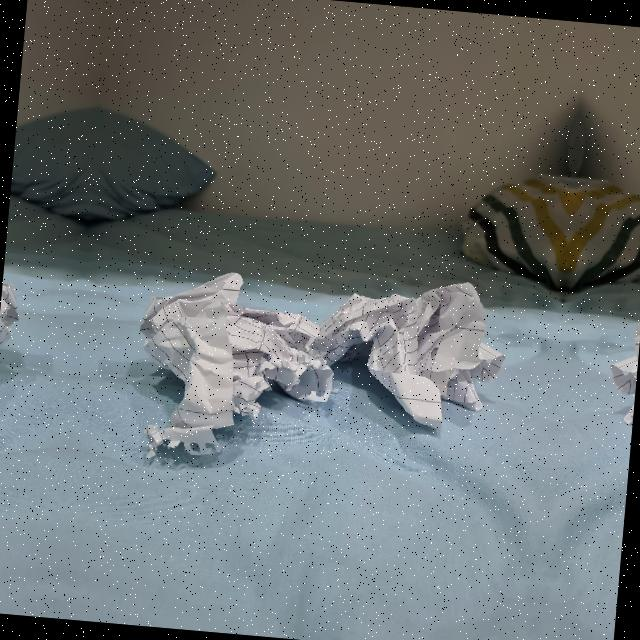paper: (129, 260, 328, 470), (328, 266, 503, 436), (0, 247, 24, 443), (611, 290, 640, 447)
